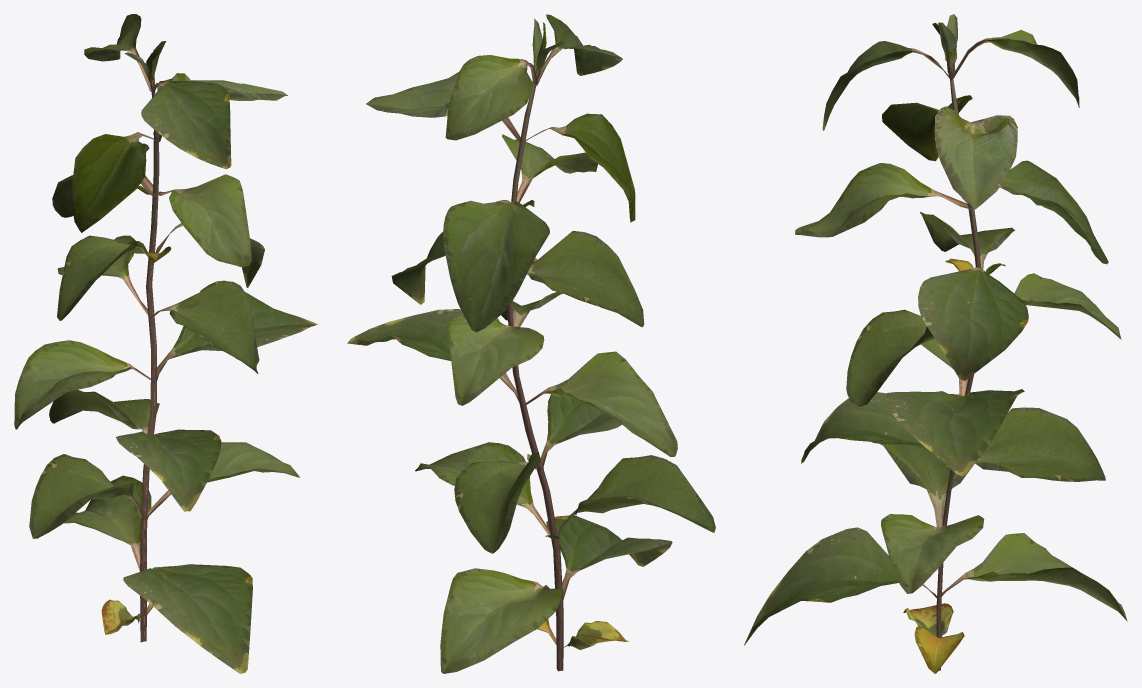
Rendered from shrub_c.glb.
The picture shows the model from 3 angles, left to right: view 1: azimuth 30°, elevation 25°; view 2: azimuth 150°, elevation 25°; view 3: azimuth 270°, elevation 25°; orthographic projection. The views are drawn at different scales.
Parts seen in each view (by area): view 1: shrub_c; view 2: shrub_c; view 3: shrub_c.
Part boxes in pixels (x1,y1,x2,y2): shrub_c: [14, 14, 317, 673]; shrub_c: [347, 14, 715, 673]; shrub_c: [744, 14, 1127, 673].
Bounding box in the file's own units: 0.1815 × 0.3322 × 0.175.
1 material, 1 textured.
